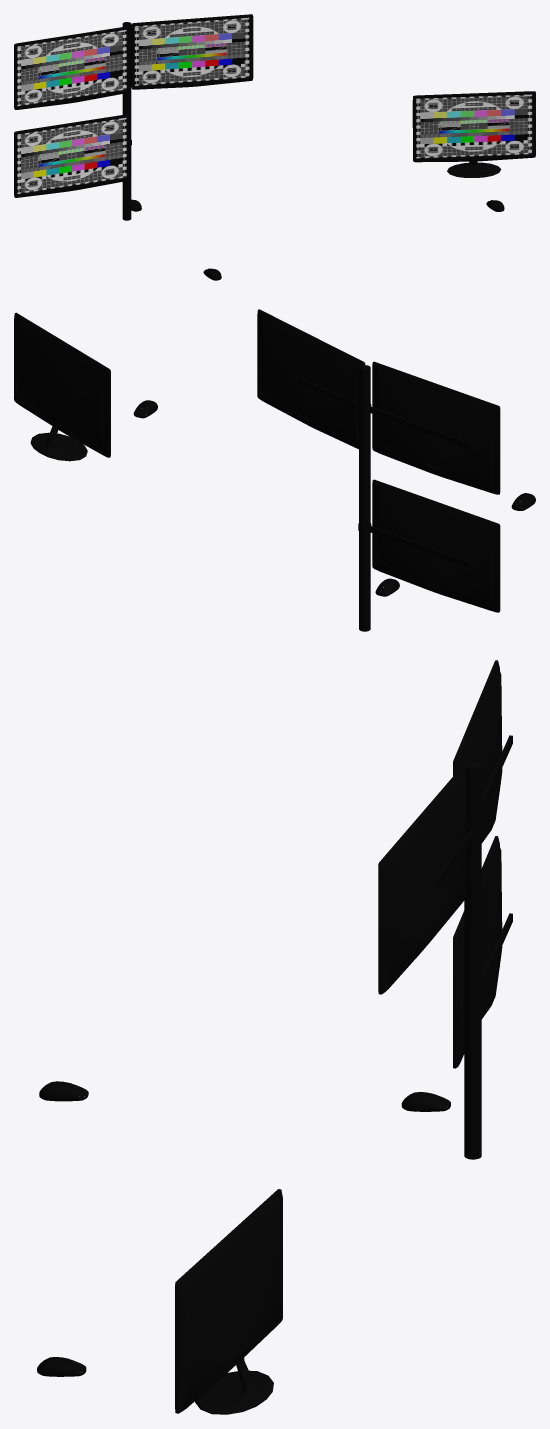
File: ComputersGroup03.glb
3 renders of one model, top to bottom at view 1: azimuth 30°, elevation 25°; view 2: azimuth 150°, elevation 25°; view 3: azimuth 270°, elevation 25°, orthographic. The views are drawn at different scales.
Parts seen in each view (by area): view 1: Display_flat005 (×3), Display_flat006, Monitor_flat009 (×3), Monitor_flat011, Cylinder001; view 2: Monitor_flat009 (×3), Monitor_flat011, Cylinder001; view 3: Monitor_flat009 (×3), Monitor_flat011, Cylinder001.
Boxes of the visible parts, x1,y1,x2,y2 form: Display_flat005 (×3): [17, 17, 249, 193]; Display_flat006: [416, 94, 532, 158]; Monitor_flat009 (×3): [14, 14, 253, 197]; Monitor_flat011: [412, 91, 535, 177]; Cylinder001: [122, 22, 131, 220]; Monitor_flat009 (×3): [257, 309, 500, 612]; Monitor_flat011: [14, 312, 110, 461]; Cylinder001: [298, 365, 471, 631]; Monitor_flat009 (×3): [378, 660, 502, 1068]; Monitor_flat011: [175, 1189, 282, 1414]; Cylinder001: [436, 735, 512, 1159].
Size of the model in its own units: 2.33 by 0.989 by 1.09.
3 materials, 1 textured.
